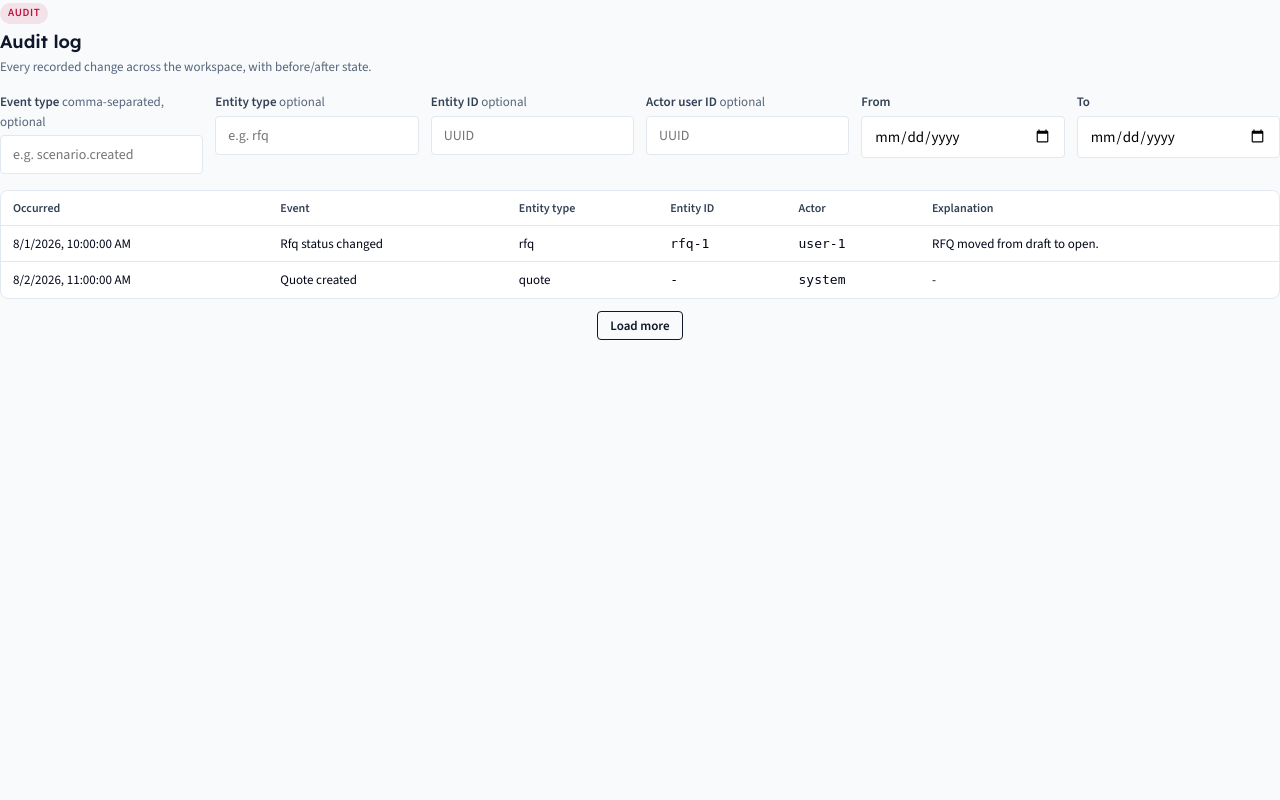
AuditPage › opens a drawer with the explanation and a pretty-printed before/after diff on row click
Step 1. Click the text "Rfq status changed" → (332, 243), box 280,235 -> 383,252
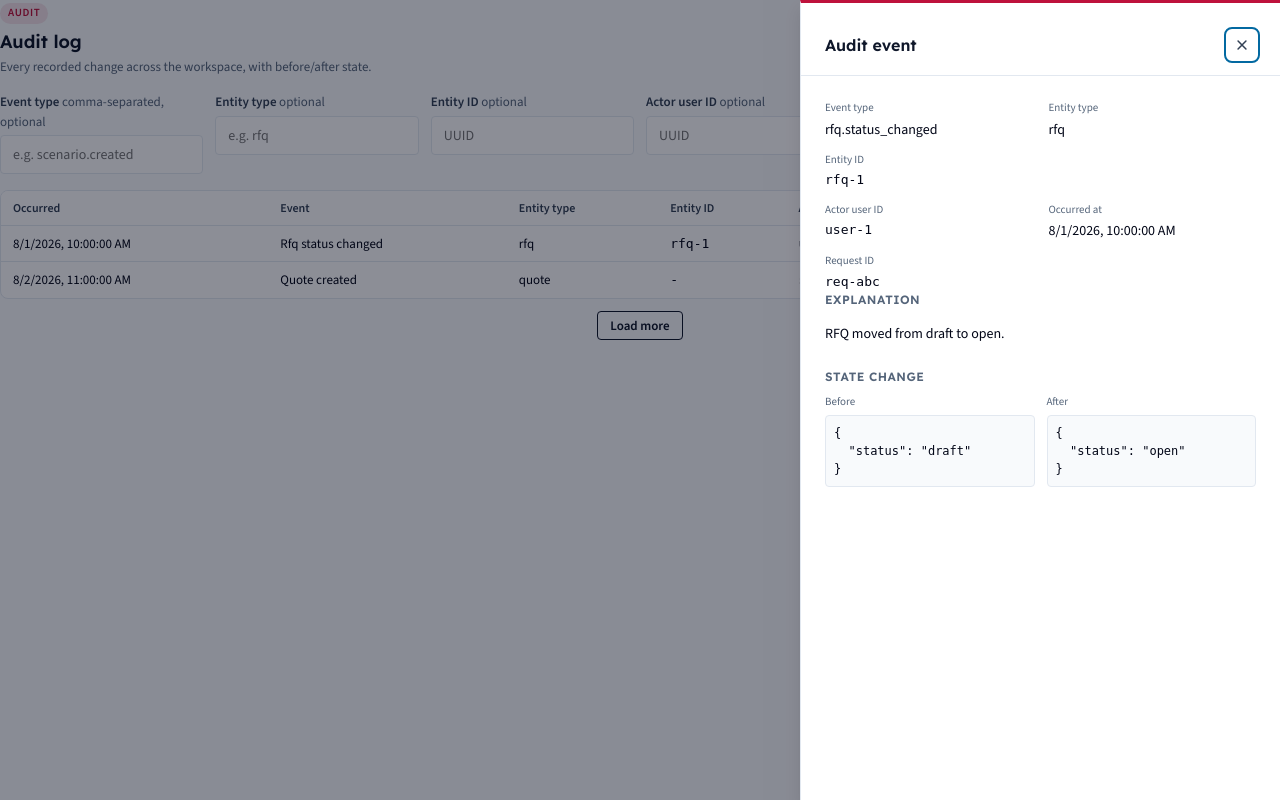
expect the text "RFQ moved from draft to open." is shown: met, box 825,324 -> 1005,343
expect the text "{ \"status\": \"draft\" }" is shown: met, box 825,414 -> 1034,486
expect the text "{ \"status\": \"open\" }" is shown: met, box 1046,414 -> 1256,486
